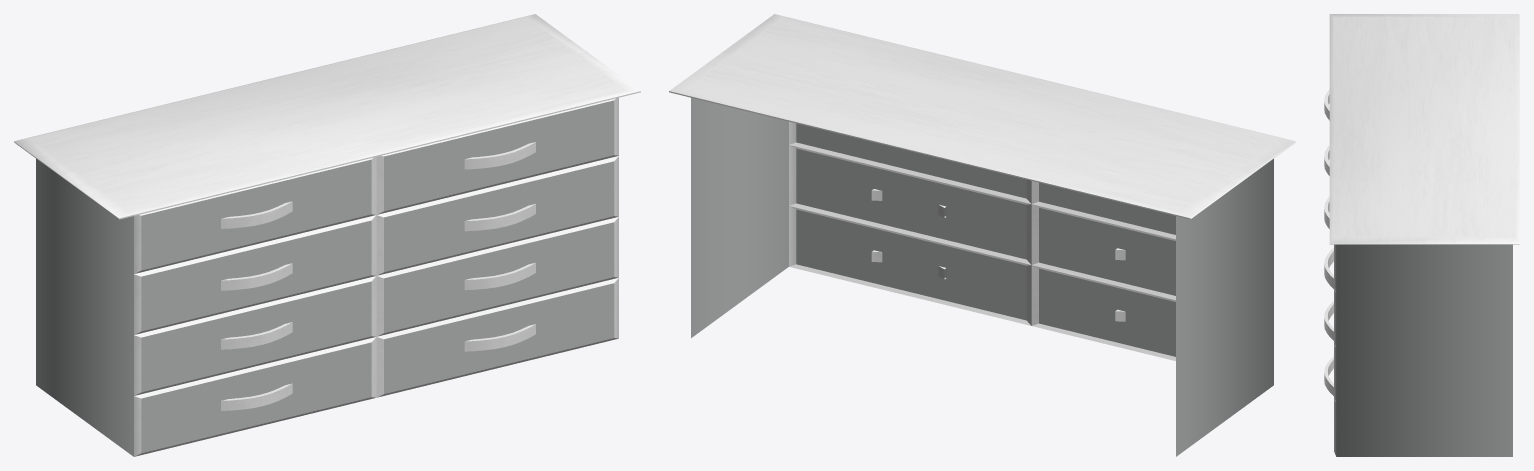
File: BabyCloset.fbx
The picture shows the model from 3 angles, left to right: view 1: azimuth 30°, elevation 25°; view 2: azimuth 150°, elevation 25°; view 3: azimuth 270°, elevation 25°; orthographic projection. The views are drawn at different scales.
Visible parts, largest first — view 1: BabyCloset; view 2: BabyCloset; view 3: BabyCloset.
Boxes of the visible parts, bbox=[...] form: BabyCloset: bbox=[14, 14, 640, 456]; BabyCloset: bbox=[669, 14, 1295, 456]; BabyCloset: bbox=[1324, 14, 1519, 456].
Bounding box in the file's own units: 215 × 97.45 × 77.39.
